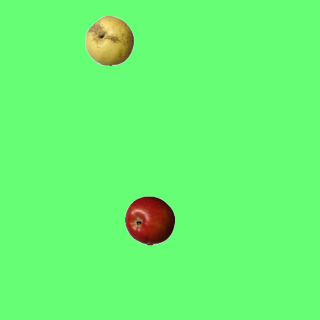Apple Braeburn: (124, 195, 174, 245)
Apple Golden 1: (84, 15, 134, 65)
